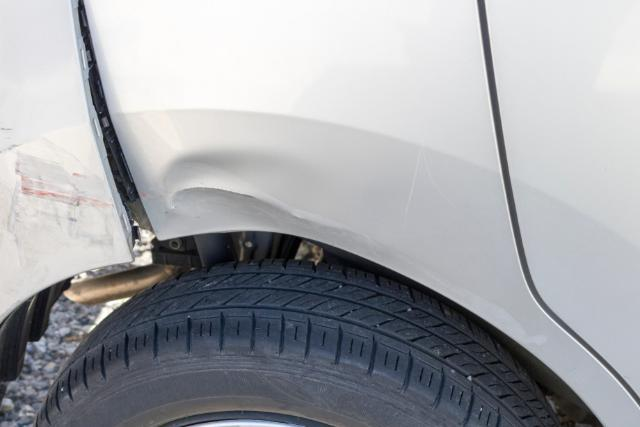Fender: (0, 0, 449, 310)
